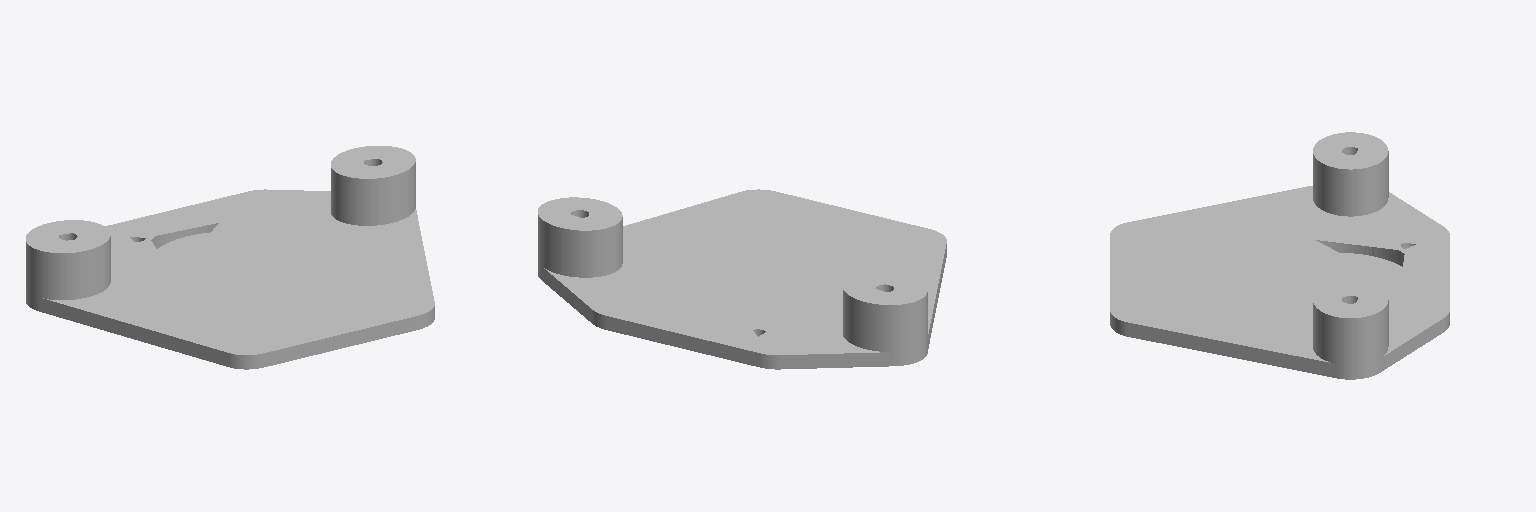
File: Prints_motor_mount.obj
3 renders of one model, left to right at view 1: azimuth 30°, elevation 25°; view 2: azimuth 150°, elevation 25°; view 3: azimuth 270°, elevation 25°, orthographic.
Parts seen in each view (by area): view 1: motor_mount; view 2: motor_mount; view 3: motor_mount.
Part boxes in pixels (bbox=[...]): motor_mount: bbox=[26, 146, 434, 369]; motor_mount: bbox=[538, 189, 946, 369]; motor_mount: bbox=[1110, 132, 1449, 379].
Size of the model in its own units: 0.056 by 0.0086 by 0.0432.